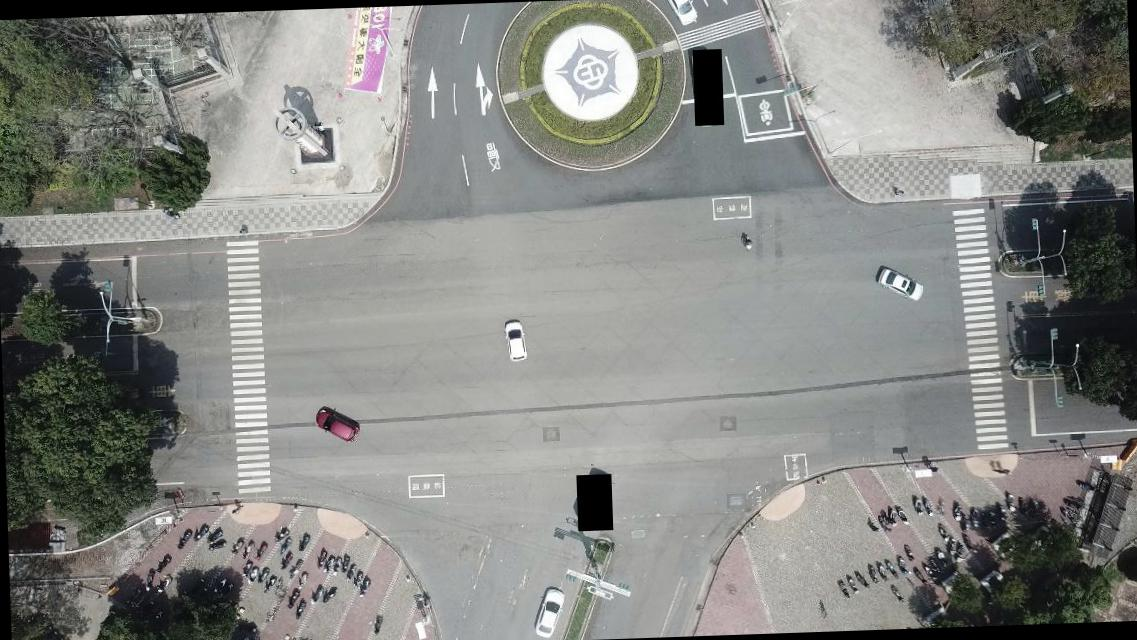vehicle: (878, 266, 924, 302), (532, 588, 565, 638), (314, 408, 358, 442), (503, 320, 528, 360), (668, 0, 698, 27)
